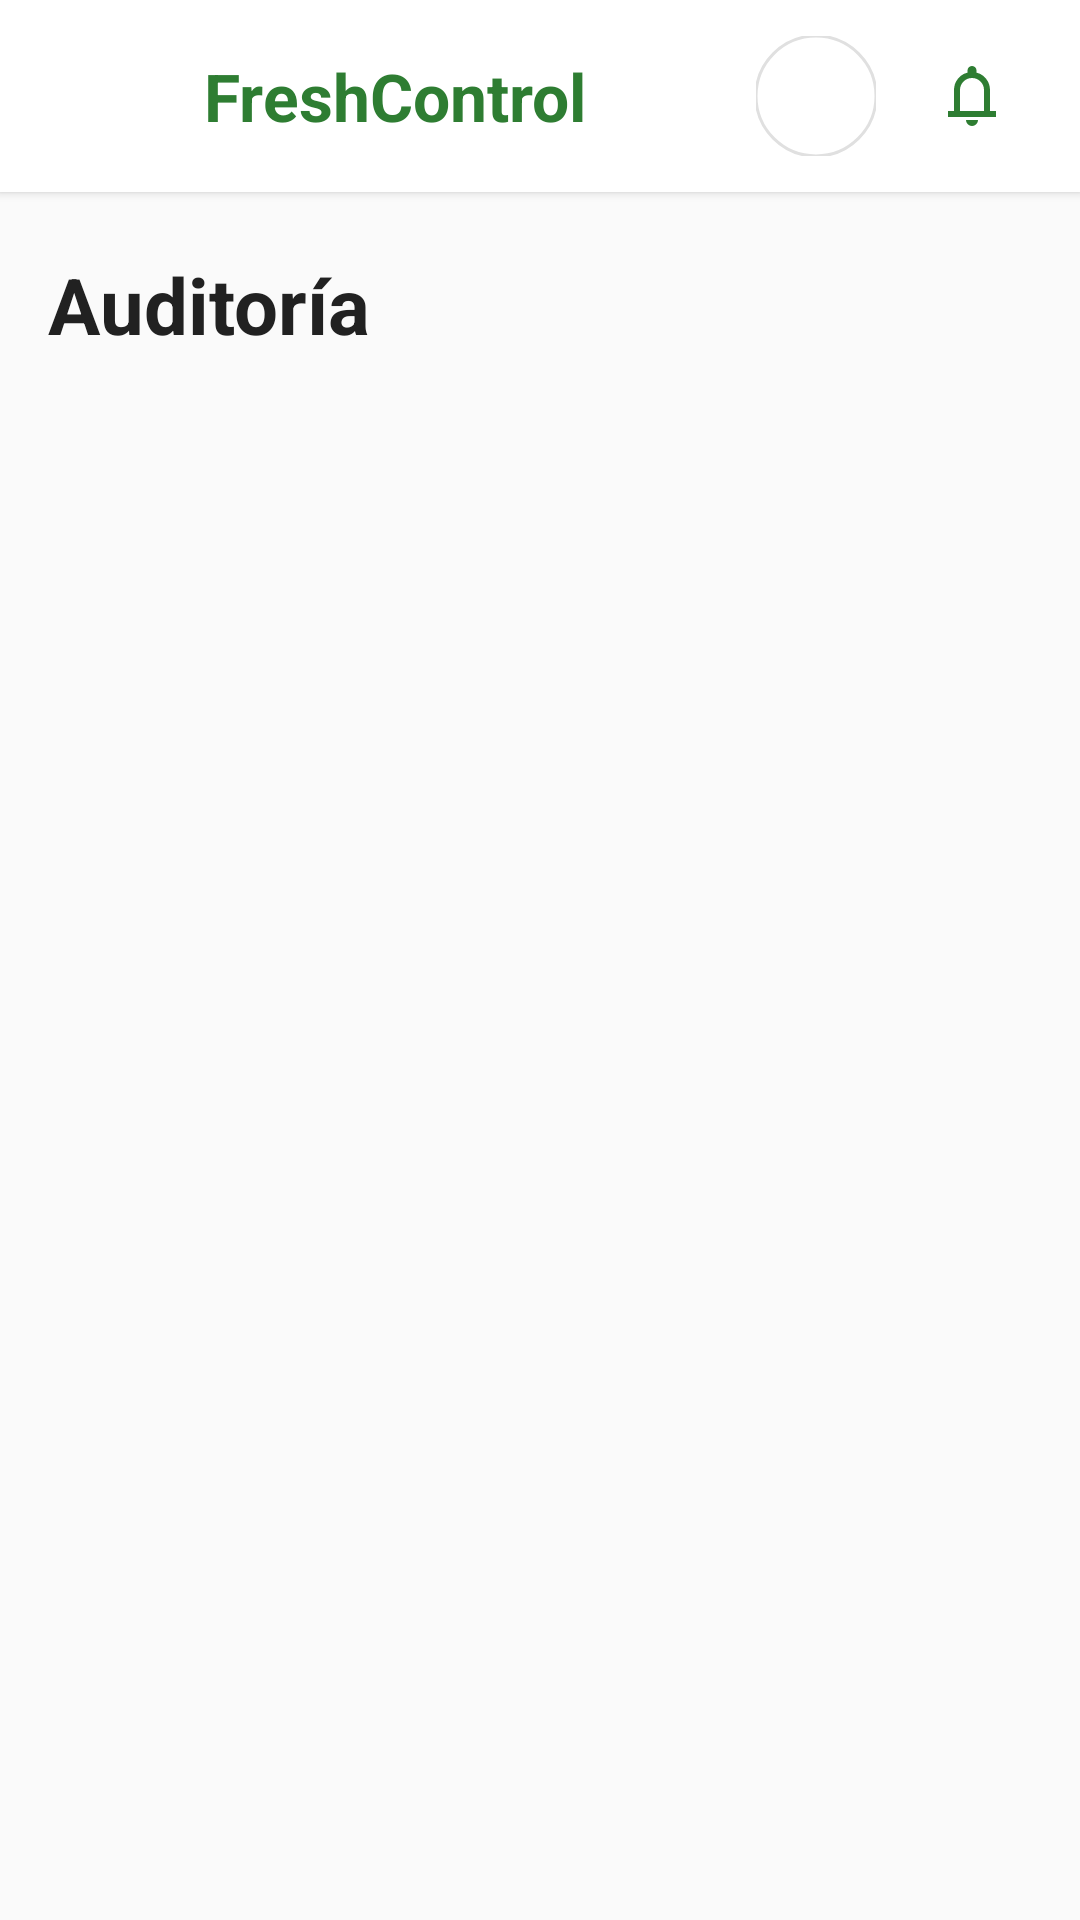

Icon bounding boxes for this 1080px x 1920px phone screenshot, format (x1, y1, x2, y2):
Notificaciones: (948, 66, 996, 126)
